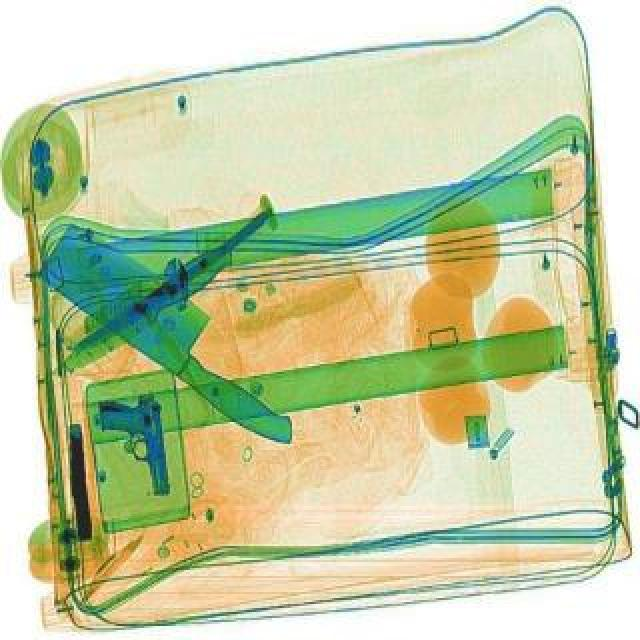gun: (96, 390, 170, 500), (60, 420, 92, 536)
knife: (26, 214, 330, 452), (64, 206, 276, 356), (32, 236, 240, 388)
